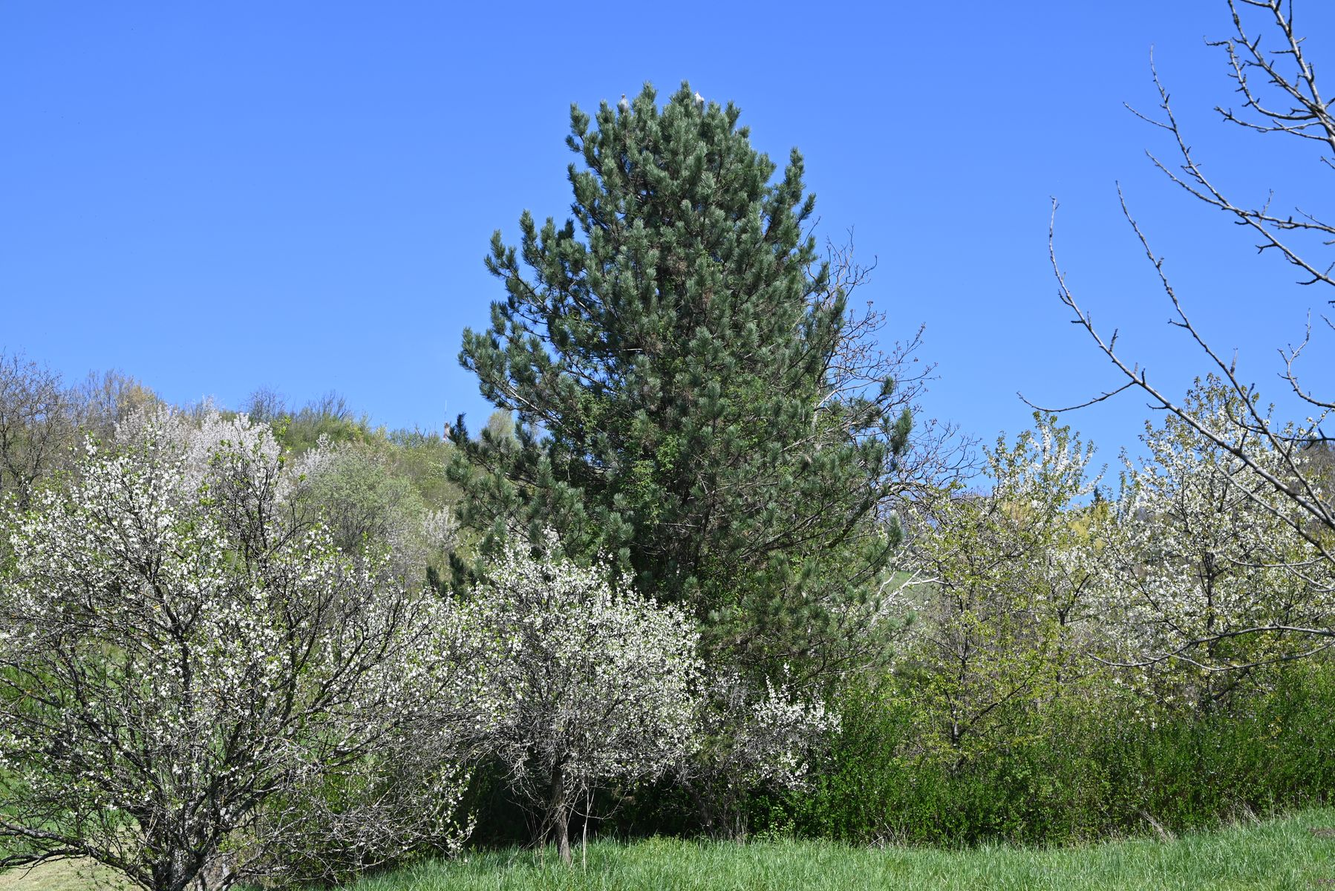thaumatopoea pityocampa jajno gnijezdo: (442, 422, 455, 440), (619, 97, 630, 110), (693, 92, 703, 104)
